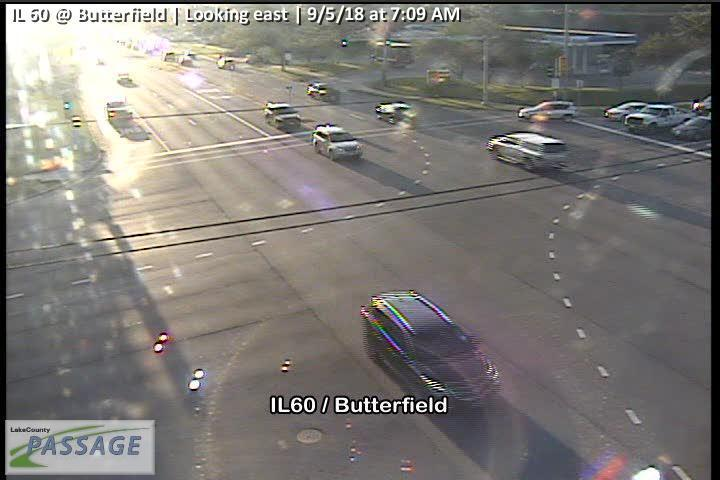SUV: (360, 291, 501, 409), (486, 128, 566, 171), (311, 124, 362, 162), (517, 100, 577, 123), (264, 103, 301, 132)
Sedan: (671, 116, 713, 141), (603, 101, 649, 122), (305, 83, 327, 99)
Truck: (622, 103, 693, 134)
